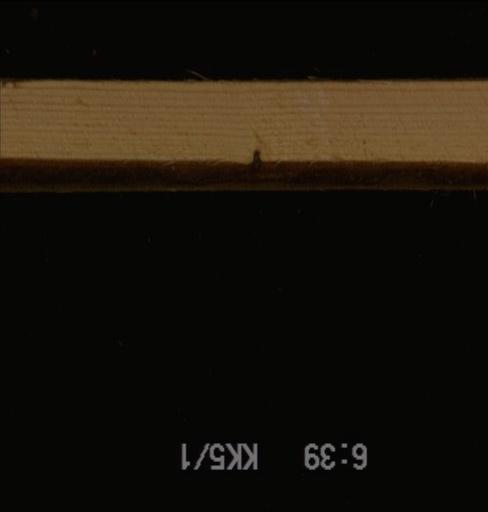wave: (0, 157, 486, 193)
